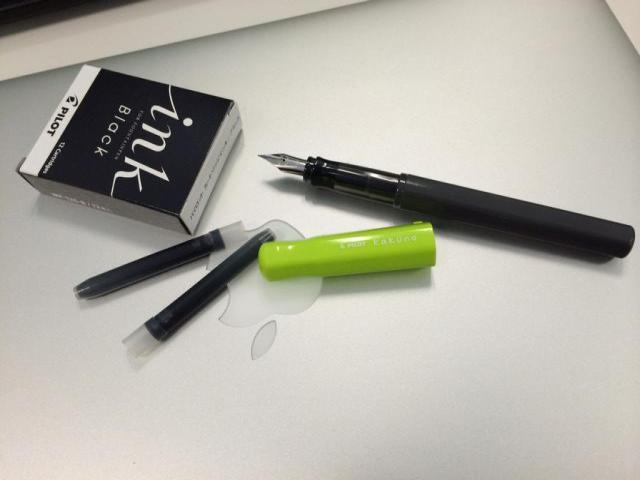PEN: (250, 141, 626, 320)
